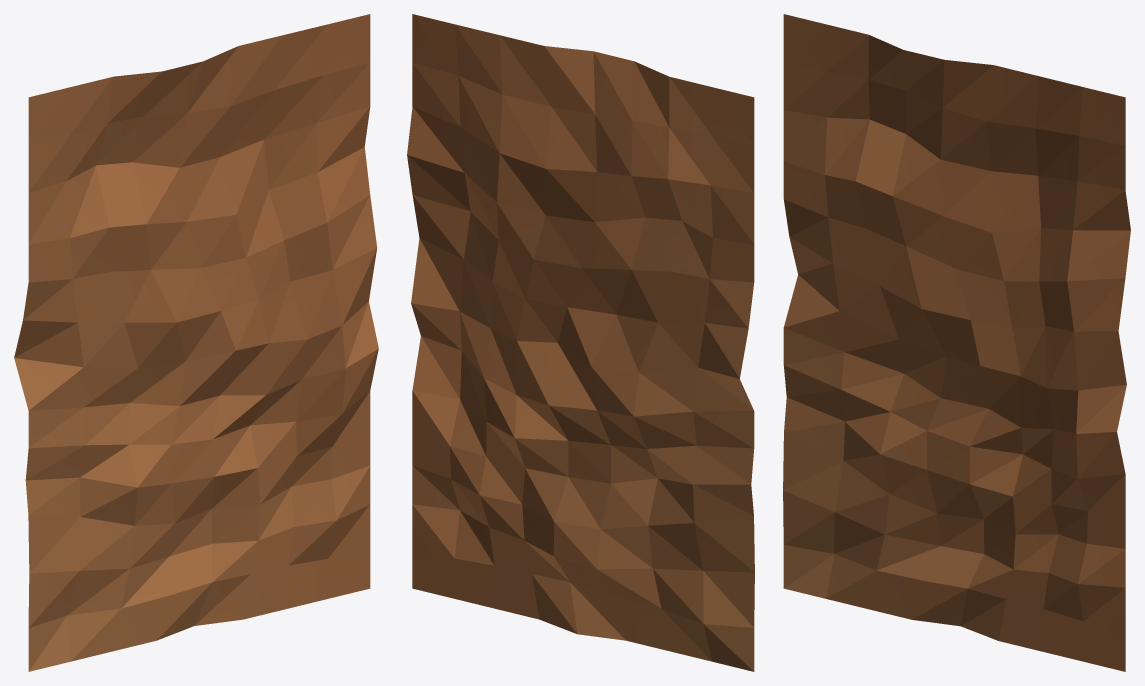
The picture shows the model from 3 angles, left to right: view 1: azimuth 30°, elevation 25°; view 2: azimuth 150°, elevation 25°; view 3: azimuth 330°, elevation 25°; orthographic projection.
Parts seen in each view (by area): view 1: BG_001; view 2: BG_001; view 3: BG_001.
Boxes of the visible parts, box(x1,y1,x2,y2) form: BG_001: box(14, 14, 378, 671); BG_001: box(407, 14, 754, 671); BG_001: box(783, 14, 1130, 671).
Bounding box in the file's own units: 9.96 × 16.01 × 1.35.
1 material, 1 textured.
